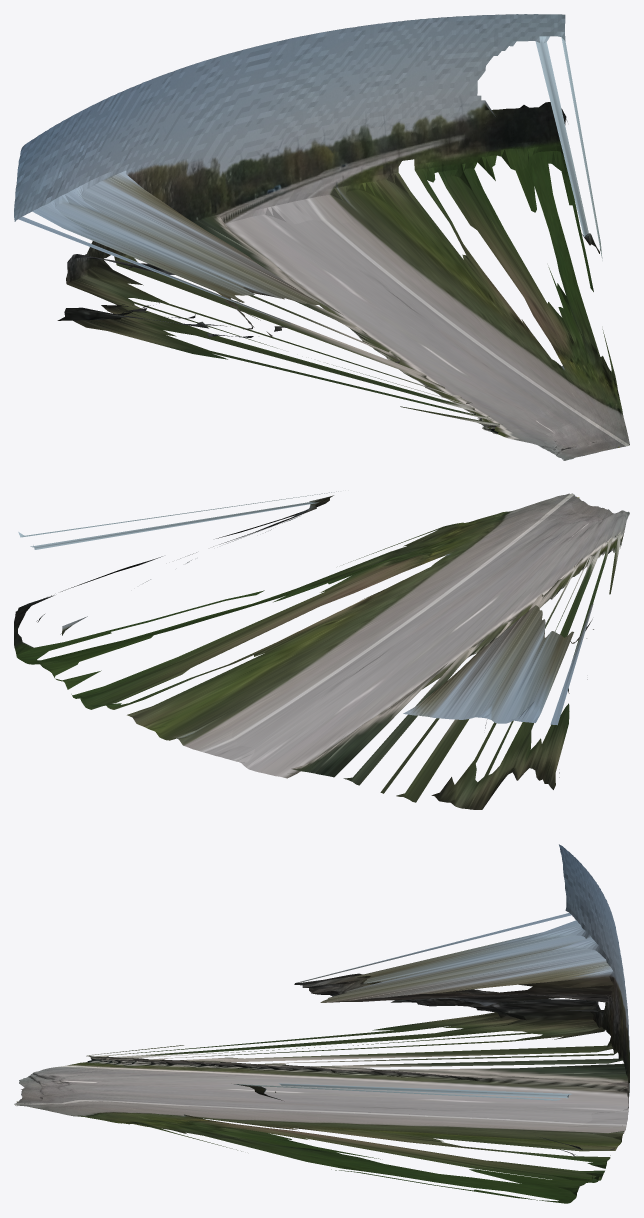
3 views of the same model, one above another, from view 1: azimuth 30°, elevation 25°; view 2: azimuth 150°, elevation 25°; view 3: azimuth 270°, elevation 25° (orthographic). The views are drawn at different scales.
Visible parts, largest first — view 1: defaultobject; view 2: defaultobject; view 3: defaultobject.
Boxes of the visible parts, x1,y1,x2,y2 form: defaultobject: [14, 14, 629, 460]; defaultobject: [14, 491, 629, 809]; defaultobject: [14, 844, 629, 1203].
Size of the model in its own units: 40.88 by 13.16 by 44.8.
1 material, 1 textured.
